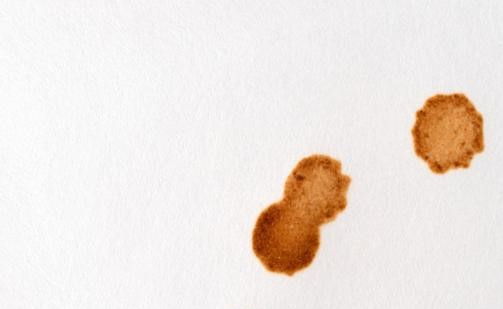stain: (249, 153, 355, 276), (410, 92, 492, 182)
